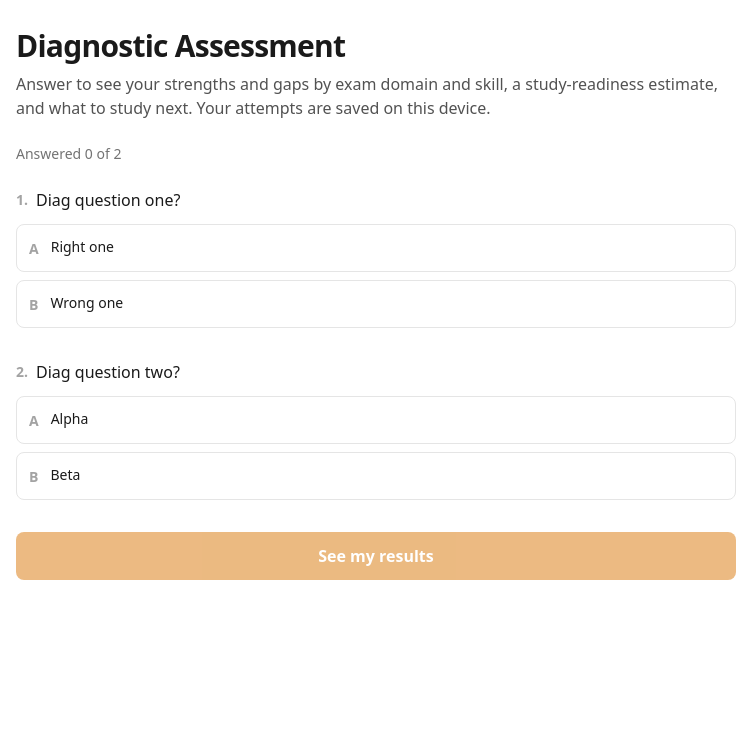
DiagnosticRunner › recommends the topic that teaches a weak skill
// Answer dq2 wrong so its skill (secondSkill, taught by Topic One) is weak.
Click the text "Right one" at (82,246), box [51, 237, 114, 256]
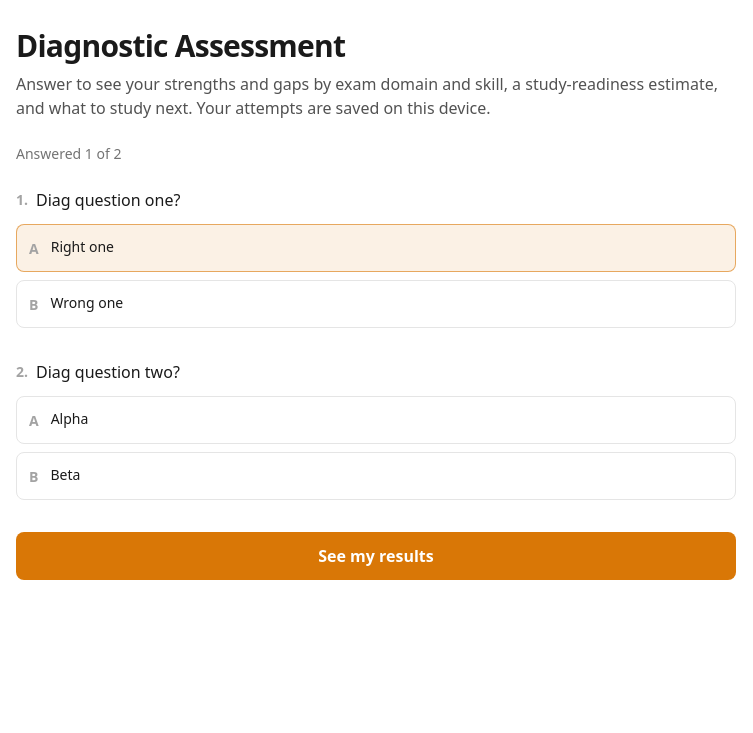
Click the text "Alpha" at (70,418), box [51, 409, 88, 428]
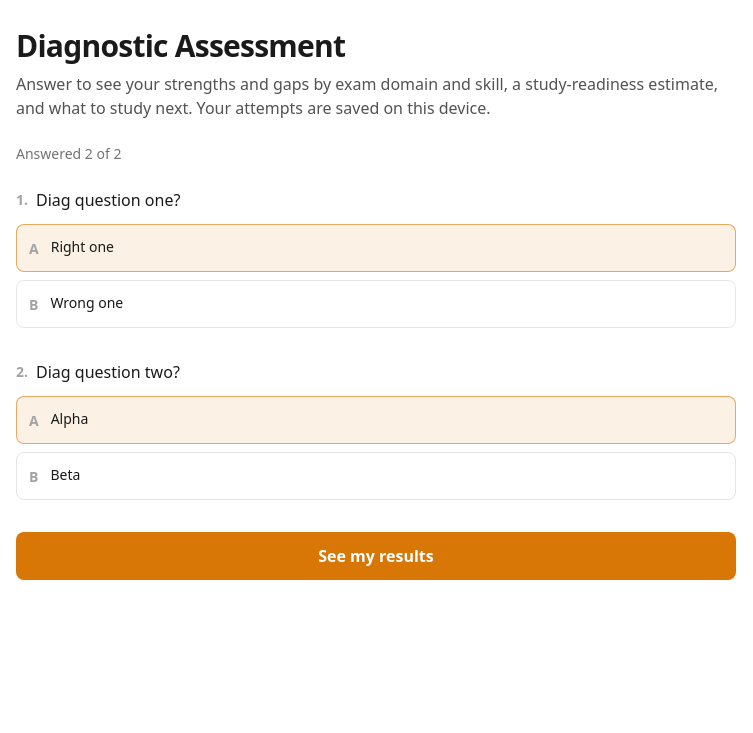
Click the button "See my results" at (376,556), box [16, 532, 736, 580]
(page scrolled)
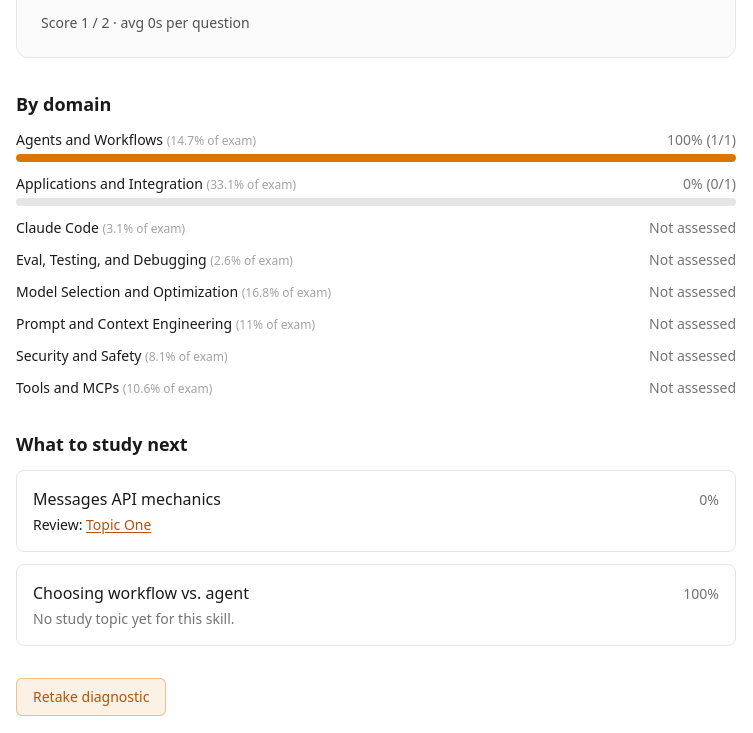
Now the heading "What to study next" is shown, box [16, 432, 188, 456]
Now the link "Topic One" is shown, box [86, 515, 151, 534]
